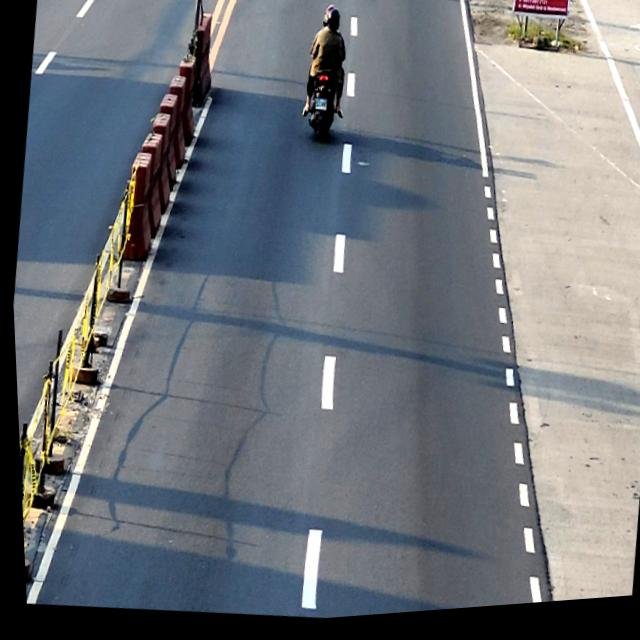License-Plate: (313, 102, 326, 115)
Motorcycle: (300, 46, 346, 149)
